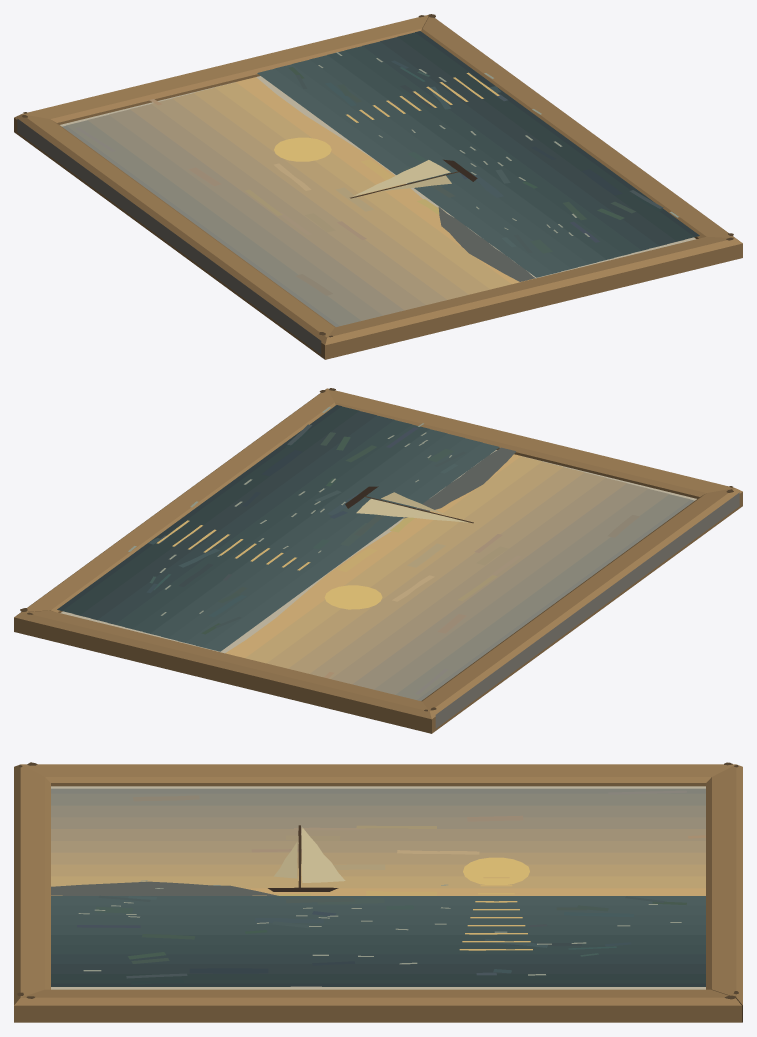
The model's file is painting_floor@2.glb.
3 renders of one model, top to bottom at view 1: azimuth 30°, elevation 25°; view 2: azimuth 150°, elevation 25°; view 3: azimuth 270°, elevation 25°, orthographic. The views are drawn at different scales.
Parts seen in each view (by area): view 1: bild; view 2: bild; view 3: bild.
Boxes of the visible parts, bbox=[...] form: bild: bbox=[14, 14, 742, 359]; bild: bbox=[14, 388, 742, 733]; bild: bbox=[14, 762, 742, 1022].
Bounding box in the file's own units: 0.6904 × 0.0584 × 0.89.
